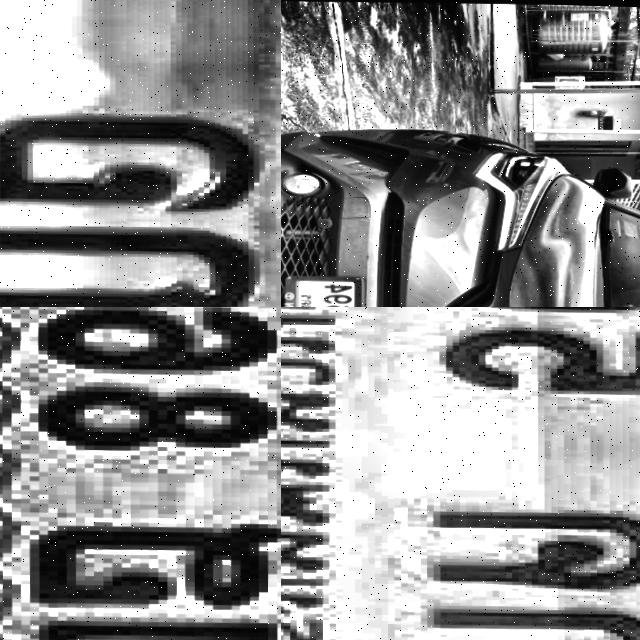license-plate: (281, 307, 640, 640), (0, 307, 281, 640), (0, 0, 281, 307), (281, 272, 368, 307)
